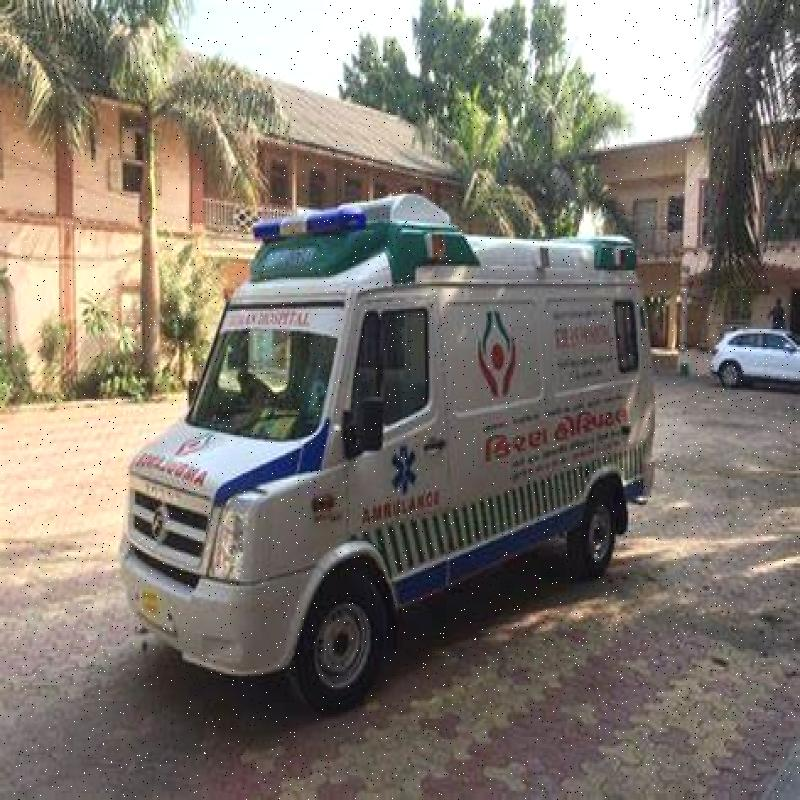AmbulanceSiren: (229, 191, 374, 244)
